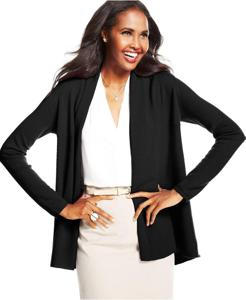C_cardigan sweater: (3, 71, 237, 272)
